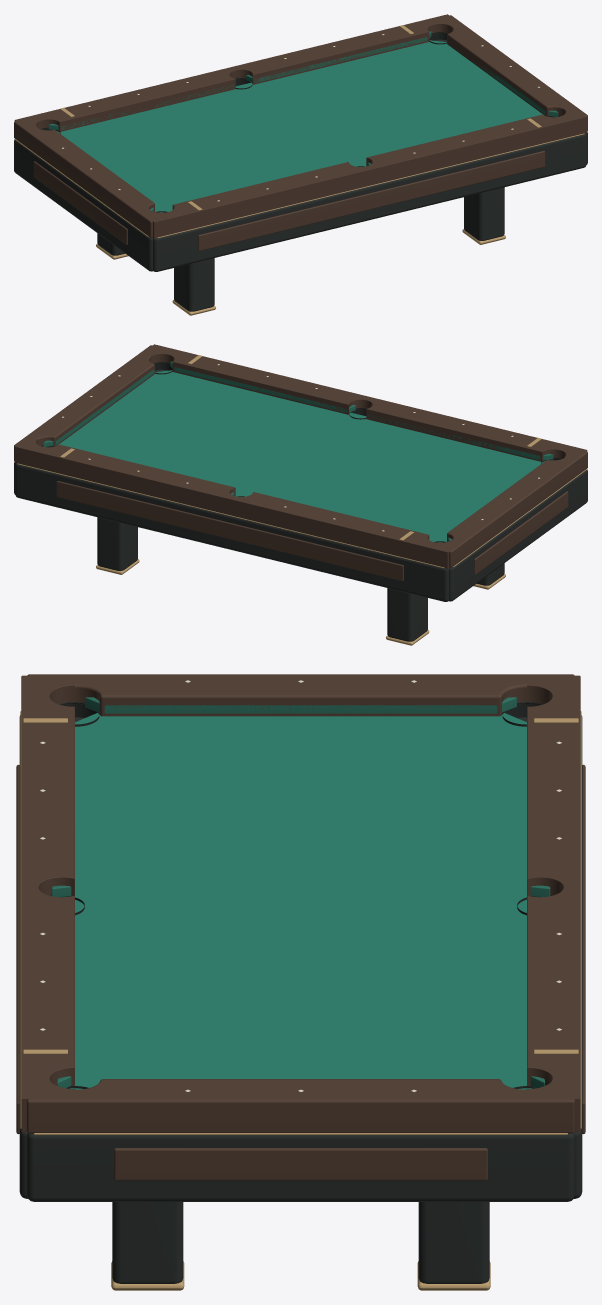
The model's file is cuemaster-table.glb.
3 views of the same model, one above another, from view 1: azimuth 30°, elevation 25°; view 2: azimuth 150°, elevation 25°; view 3: azimuth 270°, elevation 25° (orthographic). The views are drawn at different scales.
Parts seen in each view (by area): view 1: Slate and cloth, Long walnut rail, Apron, Long walnut rail.001, Walnut apron inset, End walnut rail, End walnut rail.001, Apron.002, Tapered pedestal.002, Tapered pedestal, End apron inset, Long cushion.003 (+1 smaller); view 2: Slate and cloth, Long walnut rail.001, Apron.001, Long walnut rail, Walnut apron inset.001, End walnut rail, End walnut rail.001, Apron.002, Tapered pedestal.003, Tapered pedestal.001, End apron inset, Long cushion.001 (+3 smaller); view 3: Slate and cloth, End walnut rail.001, Apron.003, Long walnut rail.001, Long walnut rail, End walnut rail, End apron inset.001, Tapered pedestal.002, Tapered pedestal.003, End cushion, Walnut apron inset, Walnut apron inset.001 (+5 smaller).
Boxes of the visible parts, x1,y1,x2,y2 form: Slate and cloth: [57, 40, 544, 212]; Long walnut rail: [142, 109, 587, 238]; Apron: [153, 133, 586, 271]; Long walnut rail.001: [14, 14, 459, 131]; Walnut apron inset: [198, 151, 545, 251]; End walnut rail: [14, 119, 171, 237]; End walnut rail.001: [430, 15, 587, 130]; Apron.002: [14, 139, 153, 271]; Tapered pedestal.002: [464, 187, 504, 240]; Tapered pedestal: [174, 258, 214, 311]; End apron inset: [33, 161, 127, 244]; Long cushion.003: [246, 31, 431, 82]; Slate and cloth: [57, 370, 544, 542]; Long walnut rail.001: [14, 439, 460, 568]; Apron.001: [15, 463, 448, 601]; Long walnut rail: [141, 344, 587, 461]; Walnut apron inset.001: [56, 481, 403, 581]; End walnut rail: [430, 448, 587, 567]; End walnut rail.001: [14, 345, 170, 460]; Apron.002: [448, 469, 587, 601]; Tapered pedestal.003: [97, 517, 137, 570]; Tapered pedestal.001: [387, 588, 427, 641]; End apron inset: [474, 491, 568, 574]; Long cushion.001: [170, 361, 355, 412]; Slate and cloth: [70, 713, 531, 1089]; End walnut rail.001: [26, 1079, 575, 1133]; Apron.003: [26, 1133, 575, 1201]; Long walnut rail.001: [527, 675, 580, 1132]; Long walnut rail: [21, 675, 74, 1132]; End walnut rail: [27, 674, 574, 716]; End apron inset.001: [114, 1148, 487, 1180]; Tapered pedestal.002: [112, 1202, 183, 1283]; Tapered pedestal.003: [418, 1202, 489, 1283]; End cushion: [85, 697, 516, 713]; Walnut apron inset: [16, 764, 19, 1134]; Walnut apron inset.001: [582, 764, 585, 1134].
Bounding box in the file's own units: 2.87 × 0.78 × 1.6.
